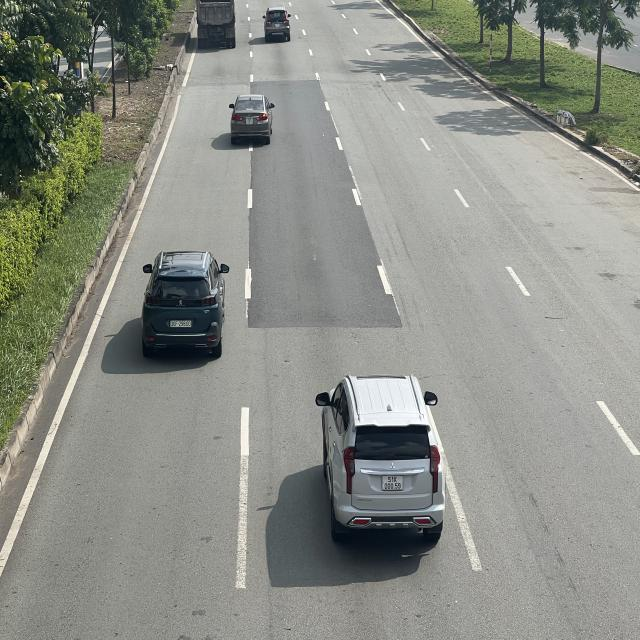car: (316, 372, 444, 542), (142, 250, 231, 358), (229, 93, 274, 143), (264, 7, 294, 42)
container: (196, 0, 238, 48)
